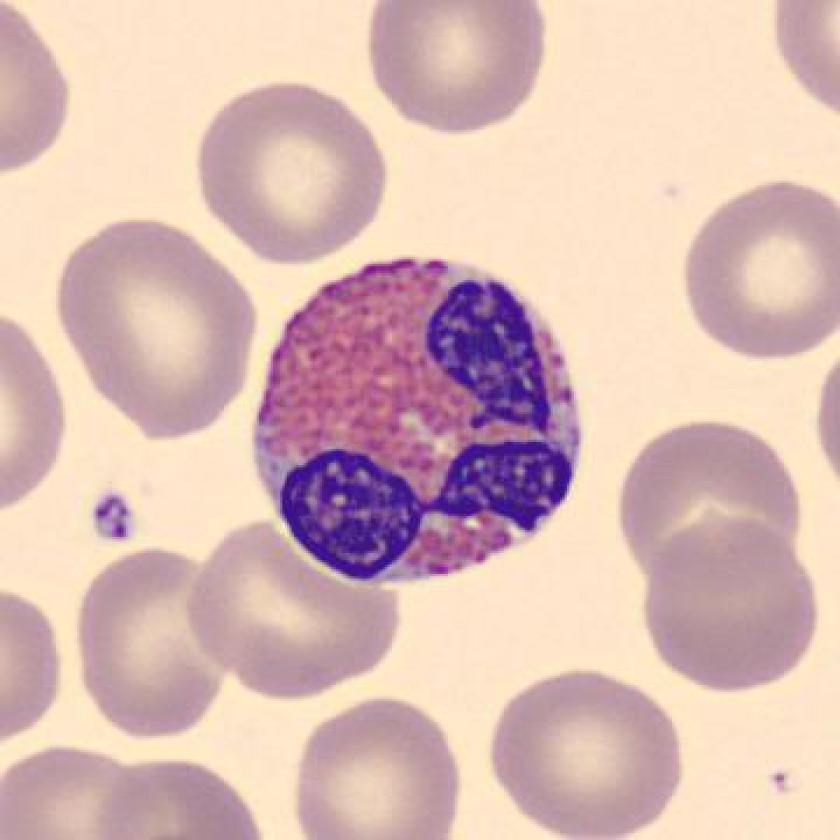eosinophil: (239, 246, 594, 596)
